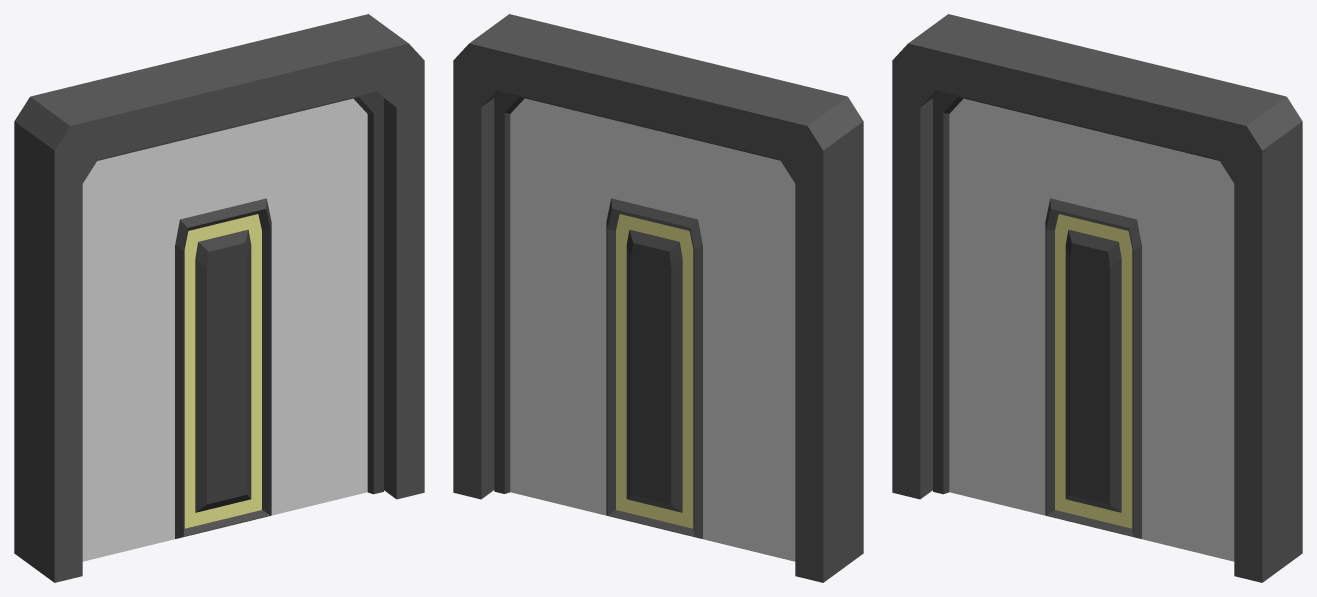
The model's file is Quarters_Door_10.fbx.
3 views of the same model, side by side, from view 1: azimuth 30°, elevation 25°; view 2: azimuth 150°, elevation 25°; view 3: azimuth 330°, elevation 25° (orthographic).
Parts seen in each view (by area): view 1: Hall_Door, Hall_Door_Frame; view 2: Hall_Door, Hall_Door_Frame; view 3: Hall_Door, Hall_Door_Frame.
Boxes of the visible parts, <box> form: Hall_Door: <box>82,91,383,561</box>; Hall_Door_Frame: <box>14,14,424,582</box>; Hall_Door: <box>494,91,795,561</box>; Hall_Door_Frame: <box>453,14,863,582</box>; Hall_Door: <box>933,91,1234,561</box>; Hall_Door_Frame: <box>892,14,1302,582</box>.
Bounding box in the file's own units: 743 × 873 × 140.
